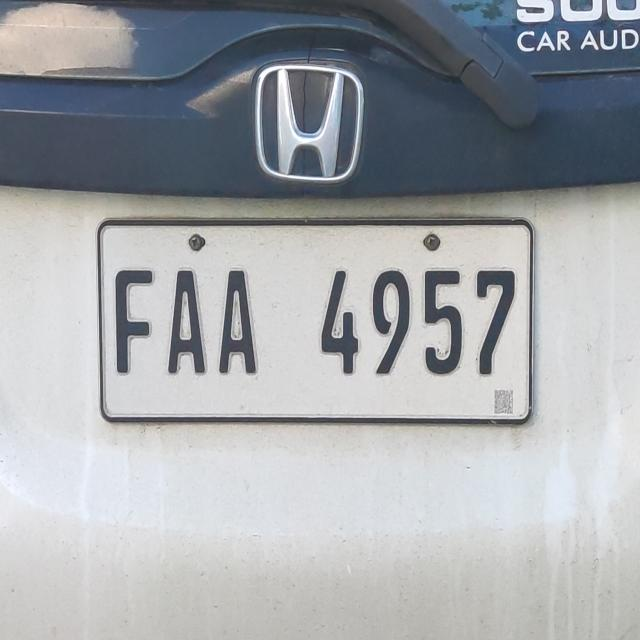plate: (89, 207, 542, 433)
